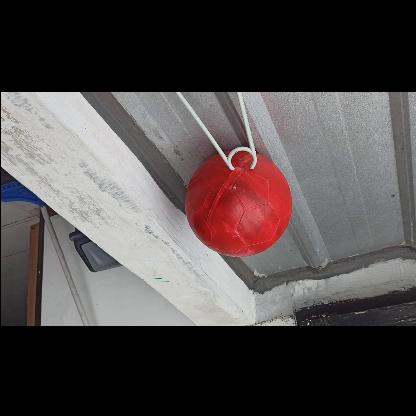red_ball: (186, 148, 292, 256)
